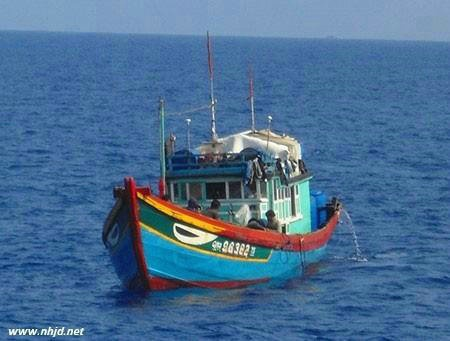otherboat: (99, 76, 344, 295)
